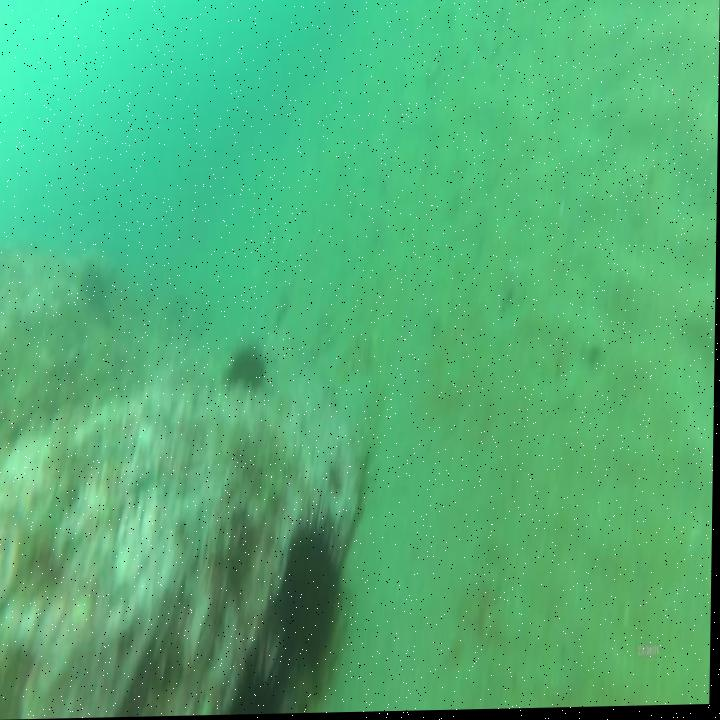echinus: (278, 524, 345, 685), (226, 342, 269, 399)
